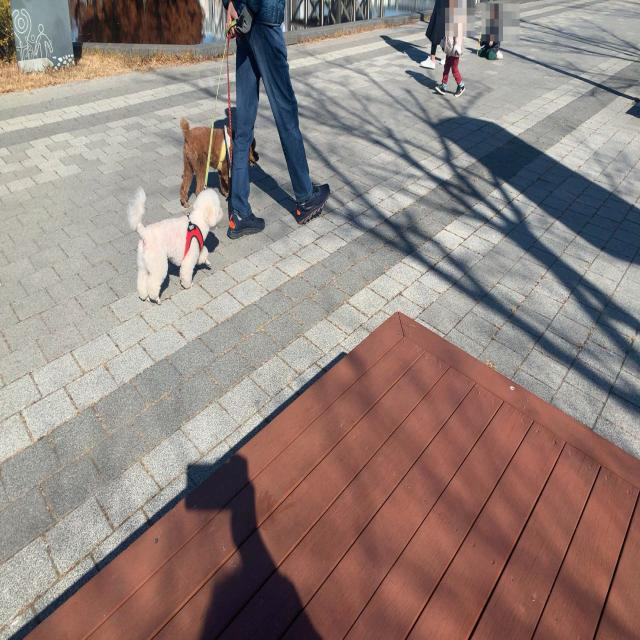Leashed_Dog: (127, 0, 258, 305), (178, 0, 260, 207)
